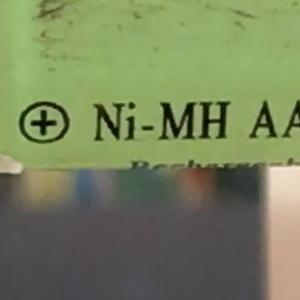NI-MH: (83, 91, 230, 151)
